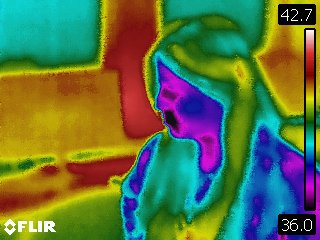human: (119, 15, 302, 213)
